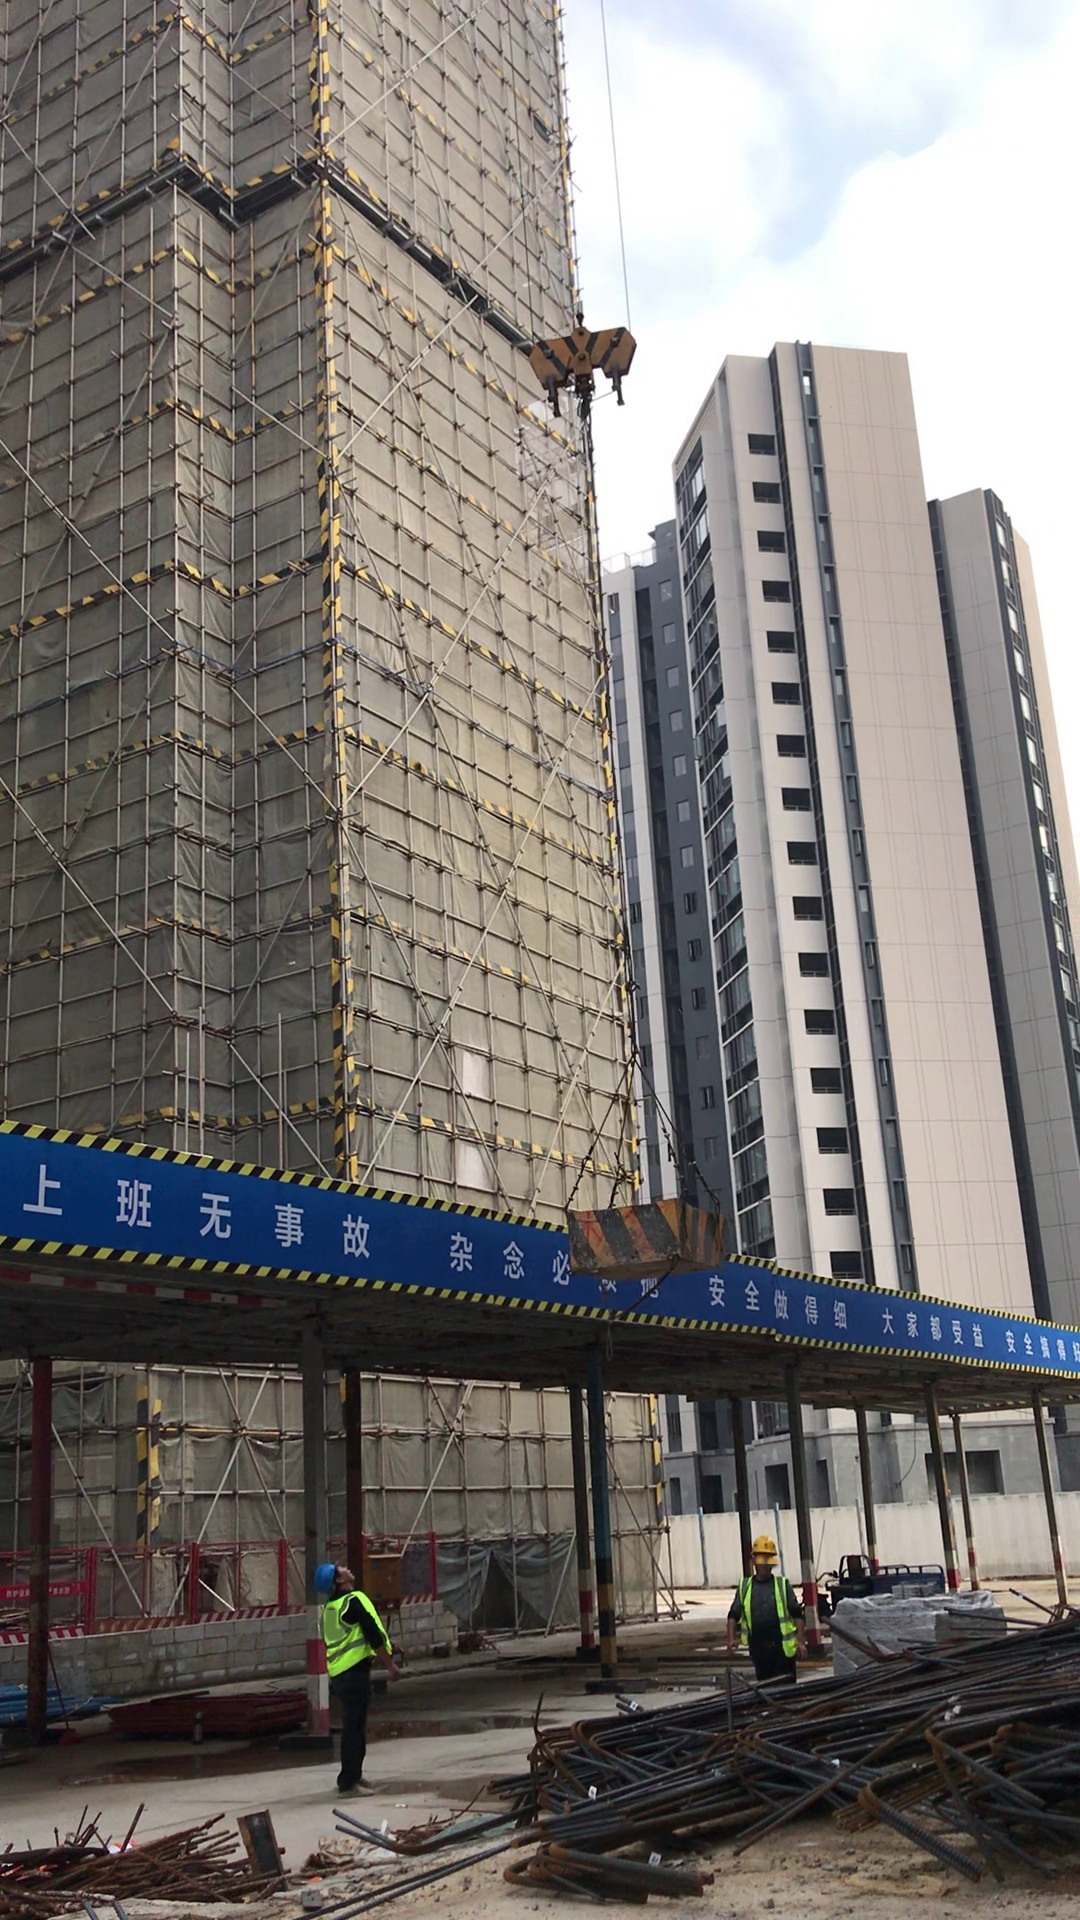fence: (1, 1532, 438, 1649)
helmet: (312, 1557, 339, 1597), (750, 1537, 782, 1555)
hook: (526, 303, 643, 405)
hopper: (565, 1190, 730, 1277)
person: (292, 1551, 400, 1800), (716, 1537, 835, 1694)
slogan: (1, 1130, 1080, 1375)
vest: (731, 1573, 798, 1658), (318, 1598, 390, 1670)
